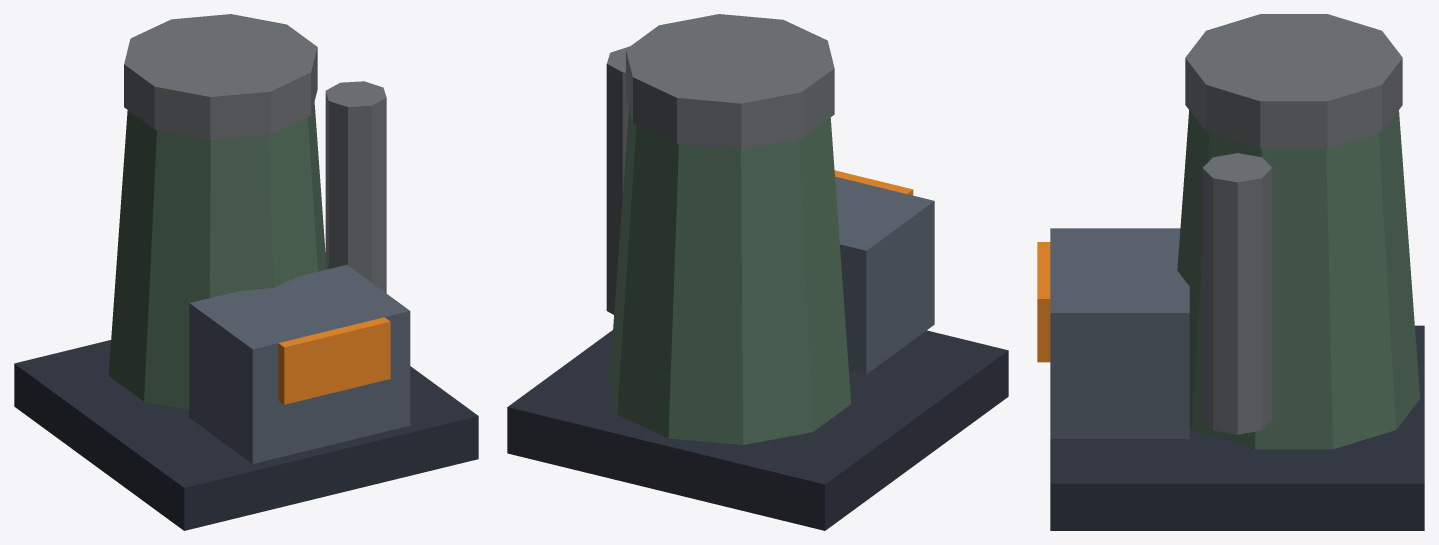
File: installation-pump.glb
3 views of the same model, side by side, from view 1: azimuth 30°, elevation 25°; view 2: azimuth 150°, elevation 25°; view 3: azimuth 270°, elevation 25° (orthographic). The views are drawn at different scales.
Visible parts, largest first — view 1: installation_pump; view 2: installation_pump; view 3: installation_pump.
Part boxes in pixels (<box>): installation_pump: <box>14,14,478,530</box>; installation_pump: <box>507,14,1008,530</box>; installation_pump: <box>1037,14,1424,530</box>.
Size of the model in its own units: 0.86 by 1 by 0.89.
